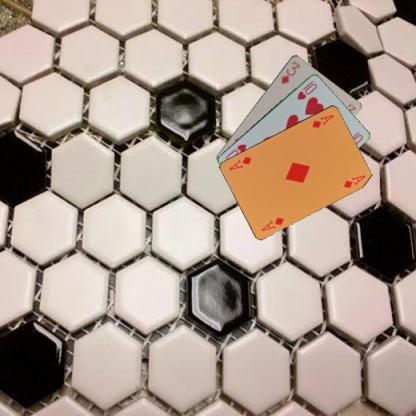10h: (294, 78, 318, 101)
3d: (278, 58, 301, 85)
Ad: (259, 214, 285, 233), (309, 112, 335, 130)
